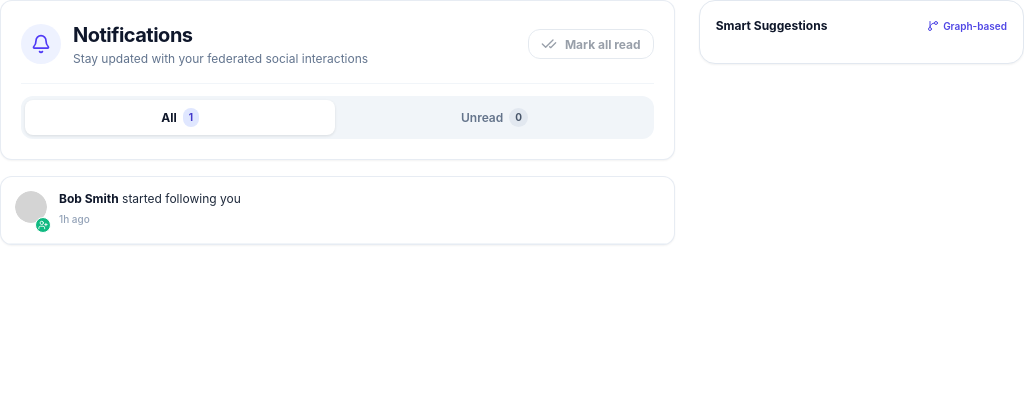
Scenario: NotificationsPage Component › renders empty state when unread tab has no unread notifications
Click the tab with test id "tab-unread".
click(494, 118)  # box x1=339 y1=100 x2=650 y2=135
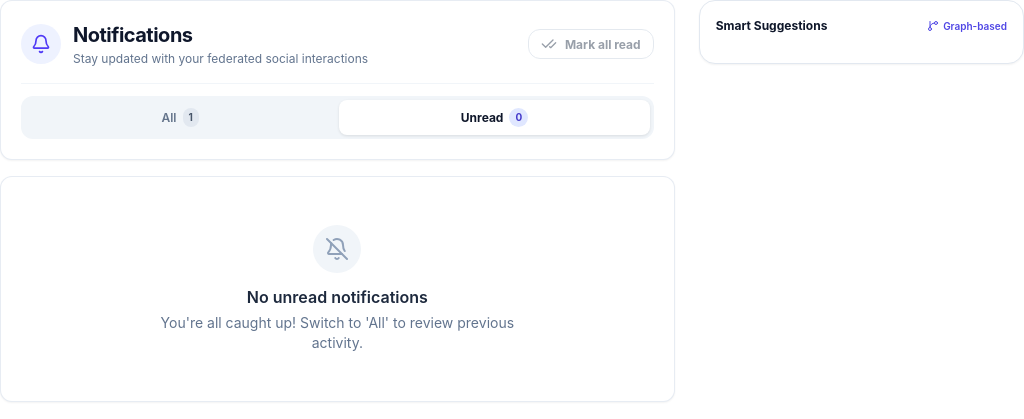
Now the element with test id "notifications-empty" is shown, box x1=0 y1=176 x2=675 y2=402
Now the heading "No unread notifications" is shown, box x1=247 y1=285 x2=428 y2=309
